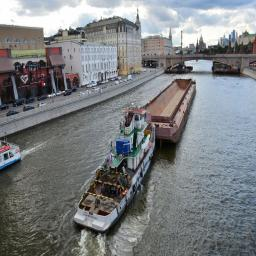tugboat: (72, 106, 159, 236)
